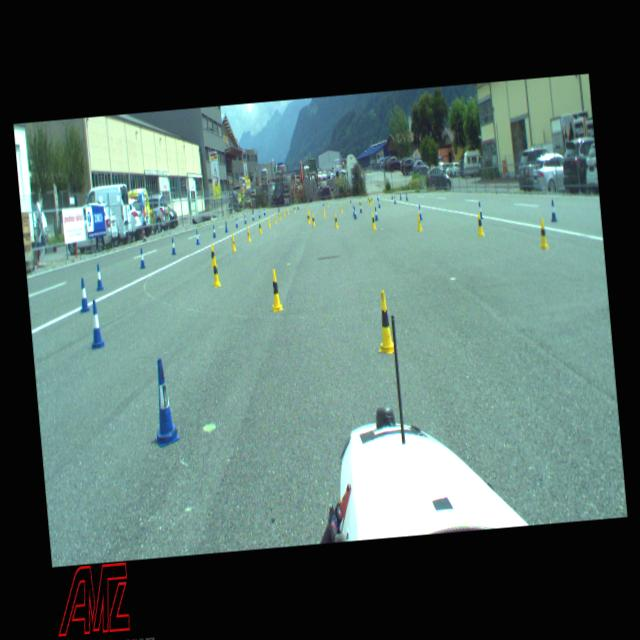blue_cone: (148, 358, 180, 448), (88, 300, 104, 348), (78, 277, 89, 311), (95, 263, 104, 290), (550, 200, 558, 222), (138, 248, 146, 268), (170, 237, 176, 254), (478, 200, 482, 218), (195, 230, 200, 244), (373, 207, 378, 220), (418, 204, 422, 220), (212, 225, 216, 238), (353, 206, 357, 219), (235, 217, 238, 228), (224, 221, 227, 232), (398, 192, 402, 200), (404, 192, 408, 200), (359, 202, 362, 212), (377, 198, 380, 208), (251, 212, 254, 221), (393, 195, 396, 204), (352, 204, 354, 215), (244, 214, 246, 223), (258, 210, 260, 218), (264, 208, 266, 216), (376, 193, 378, 200), (296, 203, 298, 209), (322, 200, 324, 206), (349, 196, 351, 202), (390, 192, 392, 198)
yellow_cone: (374, 290, 394, 354), (268, 269, 282, 311), (537, 218, 548, 248), (211, 256, 220, 286), (476, 212, 484, 236), (230, 233, 236, 251), (416, 212, 422, 230), (370, 212, 376, 229), (210, 244, 214, 267), (246, 226, 250, 242), (334, 213, 338, 228), (258, 220, 262, 233), (311, 213, 315, 226), (306, 212, 310, 223), (322, 206, 326, 216), (267, 216, 270, 227), (278, 210, 281, 220), (308, 210, 311, 220), (286, 206, 289, 214), (282, 208, 285, 216), (368, 197, 371, 204), (370, 196, 373, 203), (274, 213, 276, 223), (340, 204, 342, 212), (326, 200, 328, 207), (293, 205, 295, 212), (347, 197, 349, 204), (366, 195, 368, 202), (306, 204, 308, 208)
